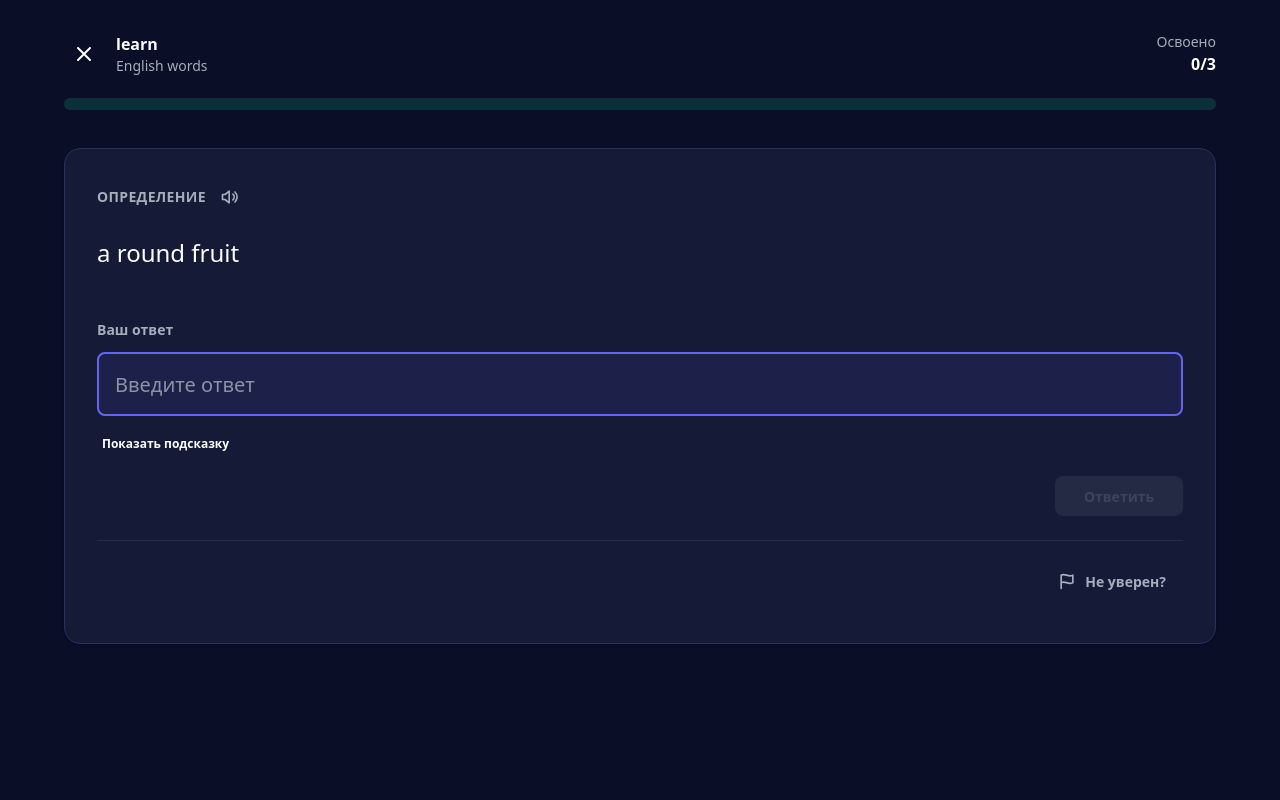
LearnExercise › shows the answer after the user is unsure
Expected: the field labelled "Ваш ответ" is shown, [97, 352, 1183, 416]
Click the button "Не уверен?": (1112, 581) [1040, 561, 1183, 601]
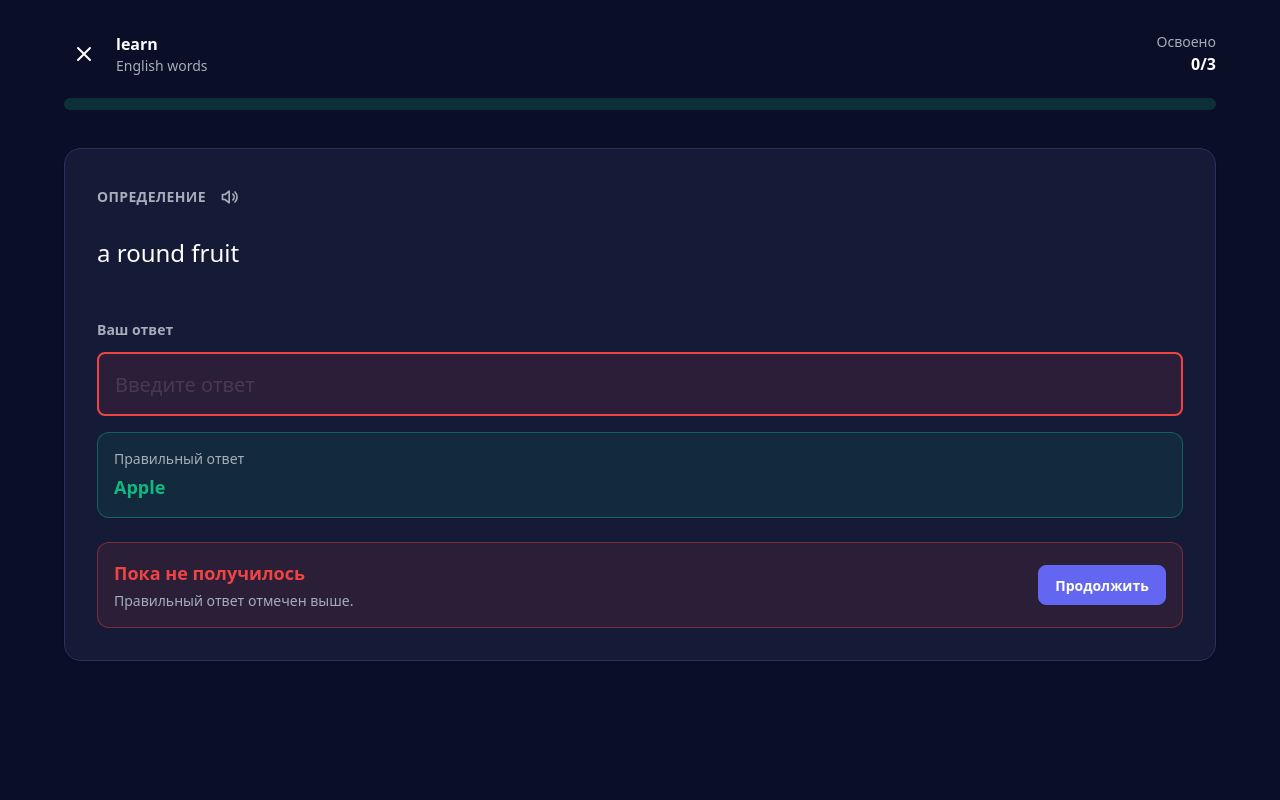
Expected: the message shows "Пока не получилось", [114, 561, 305, 585]
Expected: the text "Apple" is shown, [114, 475, 165, 499]
Expected: the button "Продолжить" is shown, [1038, 565, 1166, 605]
